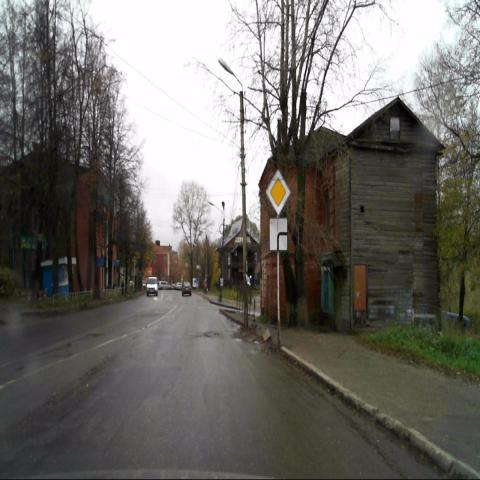2_1: (265, 169, 290, 216)
8_13: (269, 217, 288, 251)
